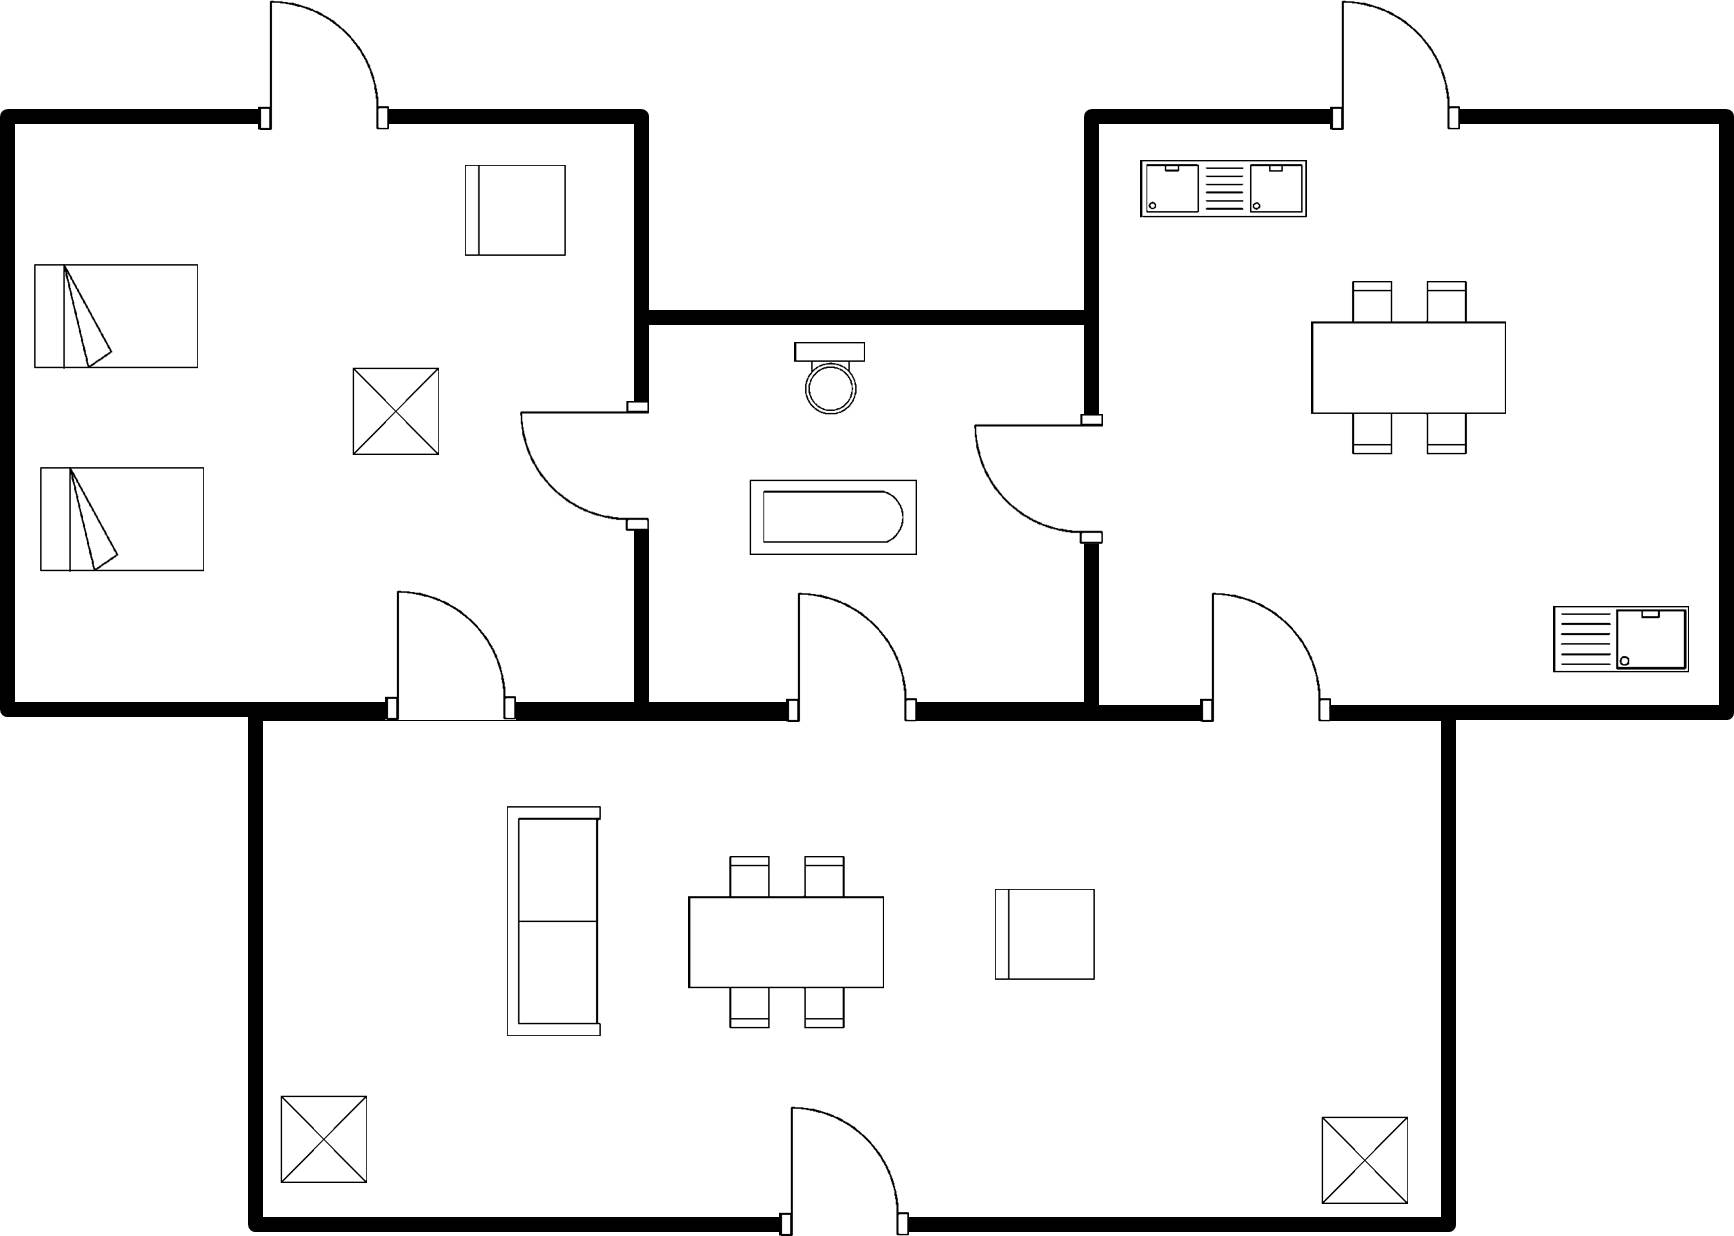bed: (26, 255, 210, 380), (31, 458, 213, 582)
coffee_table: (271, 1082, 378, 1195), (1311, 1105, 1420, 1212), (338, 358, 450, 463)
dining_table: (672, 847, 896, 1037), (1299, 271, 1516, 463)
large_sink: (779, 332, 878, 422)
large_sofa: (496, 796, 615, 1047)
sink: (1541, 597, 1699, 684)
small_sofa: (454, 154, 577, 269), (985, 879, 1104, 986)
tub: (737, 471, 929, 569)
twin_sink: (1130, 152, 1319, 228)
